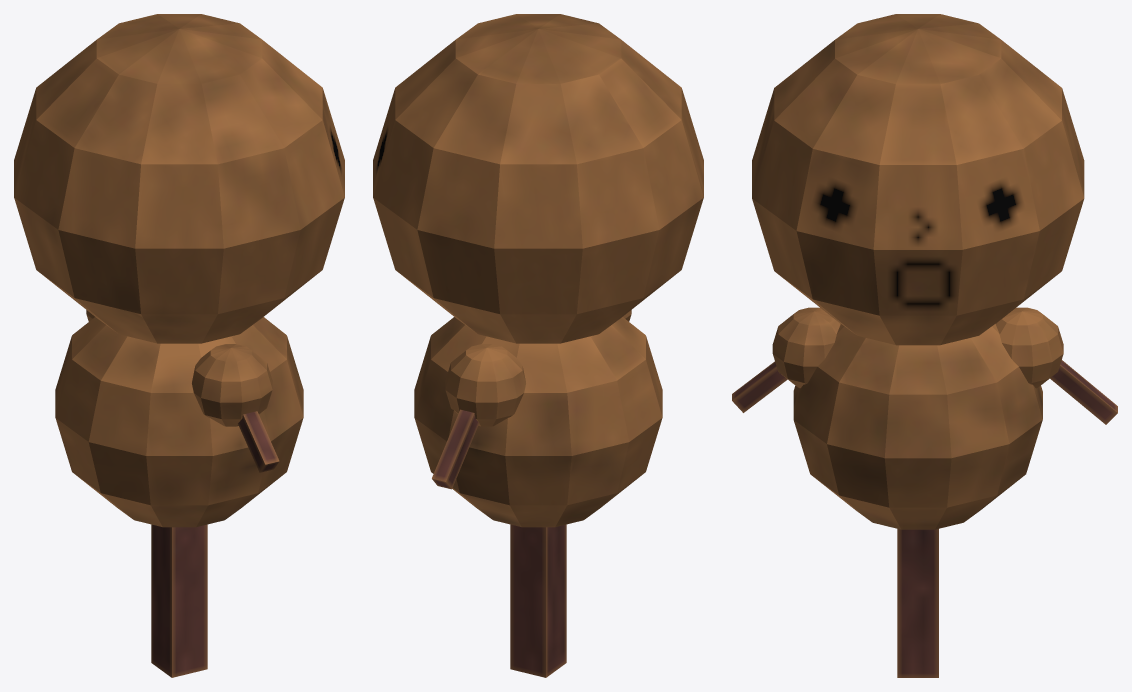
File: dummy.fbx
3 renders of one model, left to right at view 1: azimuth 30°, elevation 25°; view 2: azimuth 150°, elevation 25°; view 3: azimuth 270°, elevation 25°, orthographic.
Visible parts, largest first — view 1: sphere_3, sphere, cube, sphere_2, cuboid; view 2: sphere_3, sphere, cube, sphere_1, cuboid_1; view 3: sphere_3, sphere, cube, sphere_2, sphere_1, cuboid_1, cuboid.
Boxes of the visible parts, bbox=[...] form: sphere_3: bbox=[14, 14, 344, 343]; sphere: bbox=[55, 317, 303, 527]; cube: bbox=[151, 524, 207, 677]; sphere_2: bbox=[192, 344, 272, 426]; cuboid: bbox=[238, 411, 279, 472]; sphere_3: bbox=[373, 14, 703, 343]; sphere: bbox=[414, 317, 662, 527]; cube: bbox=[510, 524, 566, 677]; sphere_1: bbox=[445, 344, 525, 426]; cuboid_1: bbox=[432, 409, 479, 489]; sphere_3: bbox=[752, 14, 1084, 345]; sphere: bbox=[793, 324, 1042, 529]; cube: bbox=[897, 529, 938, 677]; sphere_2: bbox=[772, 307, 840, 388]; sphere_1: bbox=[995, 307, 1063, 388]; cuboid_1: bbox=[1050, 360, 1117, 424]; cuboid: bbox=[732, 361, 787, 412].
Size of the model in its own units: 100 by 212 by 116.
Materials: 1 (1 with a texture image).
